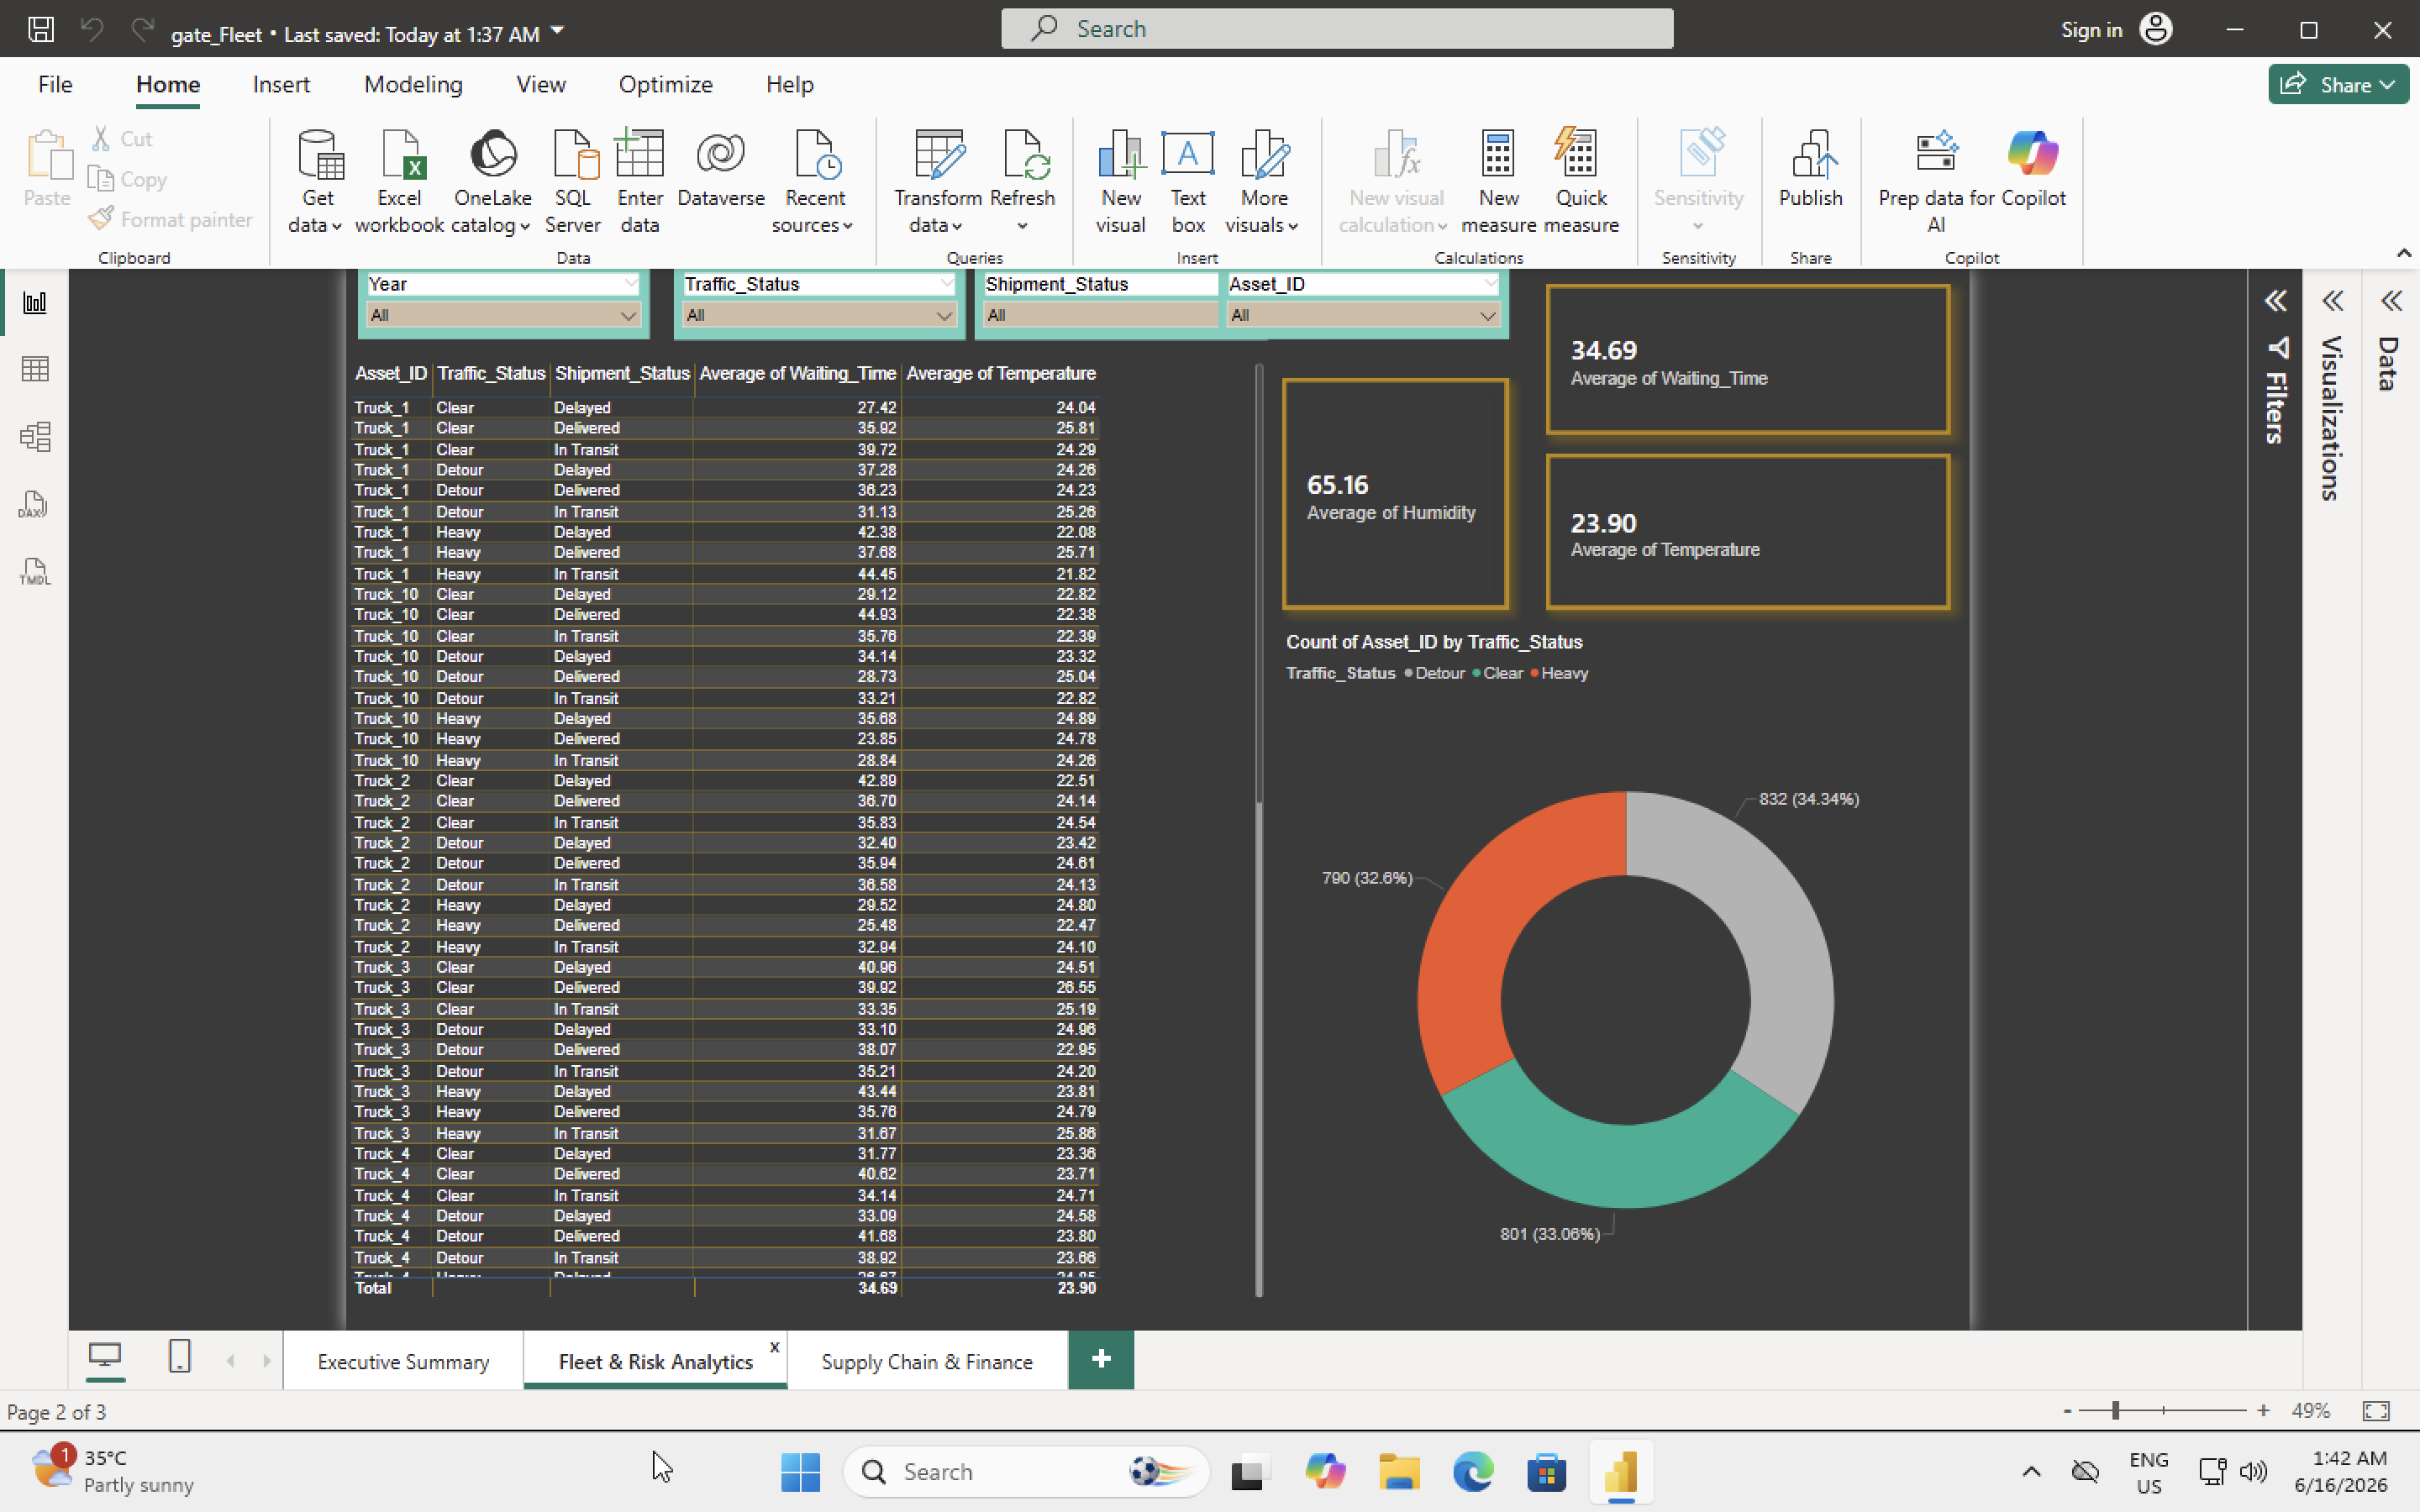

The page's visual inventory and layout, read from the dashboard file:
{"tool":"powerbi","page":{"name":"Fleet & Risk Analytics","canvas":[1958,1281],"ordinal":1},"visuals":[{"type":"cardVisual","fields":{"Data":["Avg(fleet_telemetry_2024_2026.Temperature)"]},"box":[1447.2,223,488.5,188.5],"z":0},{"type":"cardVisual","fields":{"Data":["Avg(fleet_telemetry_2024_2026.Humidity)"]},"box":[1129,131.7,273.6,279.7],"z":1000},{"type":"cardVisual","fields":{"Data":["Avg(fleet_telemetry_2024_2026.Waiting_Time)"]},"box":[1447.2,18.2,488.5,182.4],"z":2000},{"type":"tableEx","fields":{"Values":["fleet_telemetry_2024_2026.Asset_ID","fleet_telemetry_2024_2026.Traffic_Status","fleet_telemetry_2024_2026.Shipment_Status","Avg(fleet_telemetry_2024_2026.Waiting_Time)","Avg(fleet_telemetry_2024_2026.Temperature)"]},"box":[0,109.5,1110.7,1137.1],"z":3000},{"type":"donutChart","fields":{"Category":["fleet_telemetry_2024_2026.Traffic_Status"],"Y":["CountNonNull(fleet_telemetry_2024_2026.Asset_ID)"]},"box":[1129,437.8,829,827],"z":4000},{"type":"slicer","fields":{"Values":["fleet_telemetry_2024_2026.Timestamp.Variation.Date Hierarchy.Year"]},"box":[13.5,0,351.9,84.6],"z":5000},{"type":"slicer","fields":{"Values":["fleet_telemetry_2024_2026.Traffic_Status"]},"box":[394.7,0,351.7,86.1],"z":6000},{"type":"slicer","fields":{"Values":["fleet_telemetry_2024_2026.Shipment_Status"]},"box":[757.5,0,353.6,86],"z":7000},{"type":"slicer","fields":{"Values":["fleet_telemetry_2024_2026.Asset_ID"]},"box":[1052.6,0,350.9,84.6],"z":8000}]}

Visuals, with their boxes on the page's 1958x1281 design canvas (x1, y1, x2, y2). These are canvas units, not pixel positions in the 2420x1512 screenshot, which may show the page scaled, cropped or inside an application window:
cardVisual - Avg(fleet_telemetry_2024_2026.Temperature): (x1=1447, y1=223, x2=1936, y2=412)
cardVisual - Avg(fleet_telemetry_2024_2026.Humidity): (x1=1129, y1=132, x2=1403, y2=411)
cardVisual - Avg(fleet_telemetry_2024_2026.Waiting_Time): (x1=1447, y1=18, x2=1936, y2=201)
tableEx - fleet_telemetry_2024_2026.Asset_ID x fleet_telemetry_2024_2026.Traffic_Status: (x1=0, y1=110, x2=1111, y2=1247)
donutChart - fleet_telemetry_2024_2026.Traffic_Status x CountNonNull(fleet_telemetry_2024_2026.Asset_ID): (x1=1129, y1=438, x2=1958, y2=1265)
slicer - fleet_telemetry_2024_2026.Timestamp.Variation.Date Hierarchy.Year: (x1=14, y1=0, x2=365, y2=85)
slicer - fleet_telemetry_2024_2026.Traffic_Status: (x1=395, y1=0, x2=746, y2=86)
slicer - fleet_telemetry_2024_2026.Shipment_Status: (x1=758, y1=0, x2=1111, y2=86)
slicer - fleet_telemetry_2024_2026.Asset_ID: (x1=1053, y1=0, x2=1404, y2=85)
